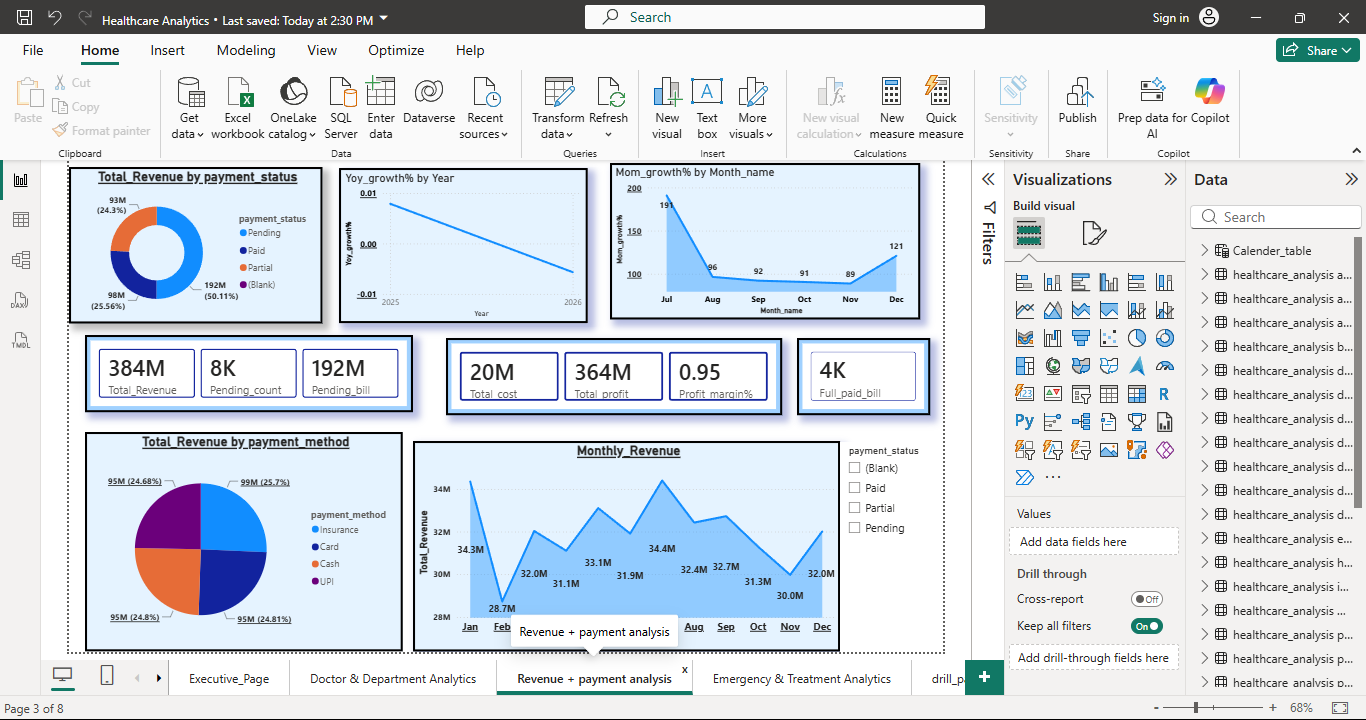

The page's visual inventory and layout, read from the dashboard file:
{"tool":"powerbi","page":{"name":"Revenue + payment analysis","canvas":[1280,720],"ordinal":2},"visuals":[{"type":"cardVisual","fields":{"Data":["measure_box.Total_Revenue","Measure_Box2.pending_revenue","Measure_Box2.Pending_bill"]},"box":[23.9,256.3,480.2,112.8],"z":0},{"type":"donutChart","fields":{"Category":["healthcare_analysis billing.payment_status"],"Y":["measure_box.Total_Revenue"]},"box":[0,10.3,370.8,229],"z":1000},{"type":"stackedAreaChart","title":"Monthly_Revenue","fields":{"Category":["Calender_table.Month_name"],"Y":["measure_box.Total_Revenue"]},"box":[504.1,411.9,625.5,307.6],"z":2000},{"type":"areaChart","fields":{"Category":["Calender_table.Month_name"],"Y":["Measure_Box2.Mom_growth%"]},"box":[792.4,4.8,453.9,229.4],"z":3000},{"type":"lineChart","fields":{"Category":["Calender_table.Year"],"Y":["Measure_Box2.yoy_growth%"]},"box":[394.8,12,364,227.3],"z":4000},{"type":"cardVisual","fields":{"Data":["Measure_Box2.Total_cost","Measure_Box2.Profit","Measure_Box2.Profit_margin%"]},"box":[552,259.8,492.2,112.8],"z":5000},{"type":"cardVisual","fields":{"Data":["Measure_Box2.Full_paid_bill"]},"box":[1064.7,259.8,194.8,112.8],"z":6000},{"type":"pieChart","fields":{"Category":["healthcare_analysis billing.payment_method"],"Y":["measure_box.Total_Revenue"]},"box":[23.9,398.2,464.8,321.3],"z":7000},{"type":"slicer","fields":{"Values":["healthcare_analysis billing.payment_status"]},"box":[1129,412,150,308],"z":8000}]}

Visuals, with their boxes on the page's 1280x720 design canvas (x1, y1, x2, y2). These are canvas units, not pixel positions in the 1366x720 screenshot, which may show the page scaled, cropped or inside an application window:
cardVisual - measure_box.Total_Revenue x Measure_Box2.pending_revenue: l=24, t=256, r=504, b=369
donutChart - healthcare_analysis billing.payment_status x measure_box.Total_Revenue: l=0, t=10, r=371, b=239
"Monthly_Revenue" stackedAreaChart: l=504, t=412, r=1130, b=720
areaChart - Calender_table.Month_name x Measure_Box2.Mom_growth%: l=792, t=5, r=1246, b=234
lineChart - Calender_table.Year x Measure_Box2.yoy_growth%: l=395, t=12, r=759, b=239
cardVisual - Measure_Box2.Total_cost x Measure_Box2.Profit: l=552, t=260, r=1044, b=373
cardVisual - Measure_Box2.Full_paid_bill: l=1065, t=260, r=1260, b=373
pieChart - healthcare_analysis billing.payment_method x measure_box.Total_Revenue: l=24, t=398, r=489, b=720
slicer - healthcare_analysis billing.payment_status: l=1129, t=412, r=1279, b=720
